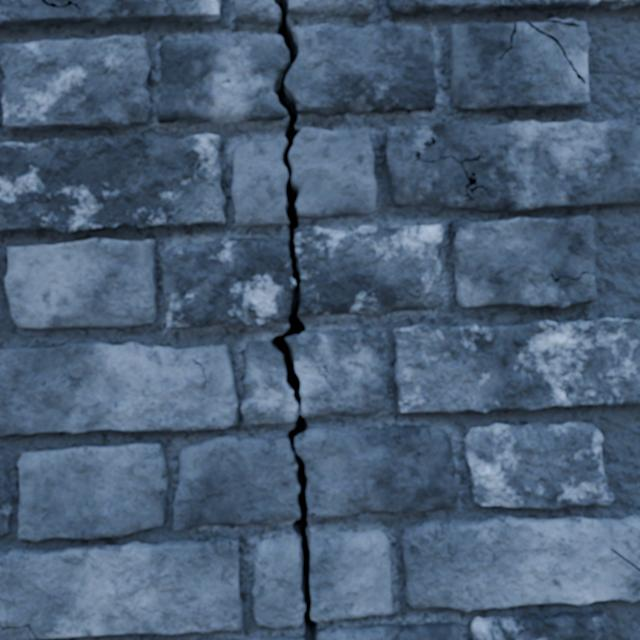broken_brick: (295, 425, 458, 518), (285, 22, 437, 116), (294, 225, 444, 315), (174, 435, 299, 531), (157, 32, 288, 123), (163, 238, 295, 328), (286, 328, 386, 416), (289, 127, 377, 218), (310, 530, 392, 621), (232, 138, 288, 226), (251, 538, 305, 628), (241, 341, 296, 425), (317, 622, 460, 639), (288, 0, 373, 17), (235, 0, 280, 24), (199, 635, 304, 639)
crack: (268, 0, 317, 639), (0, 537, 243, 639), (386, 119, 639, 213), (393, 317, 639, 413), (400, 514, 639, 611), (0, 133, 227, 234), (0, 341, 239, 436), (17, 443, 168, 541), (0, 33, 150, 130), (5, 238, 157, 328), (448, 216, 596, 308), (464, 420, 613, 509), (449, 18, 590, 111), (0, 0, 221, 27), (469, 611, 610, 639), (388, 0, 639, 15), (0, 453, 13, 537)
